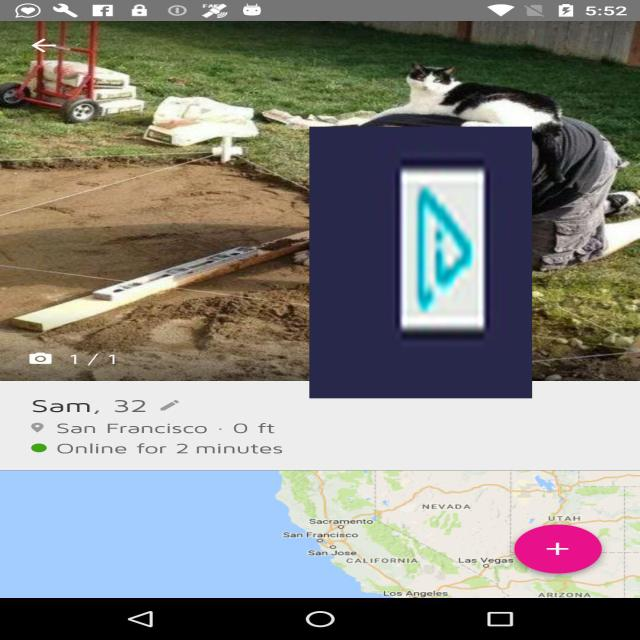sneaking: (309, 127, 532, 398)
